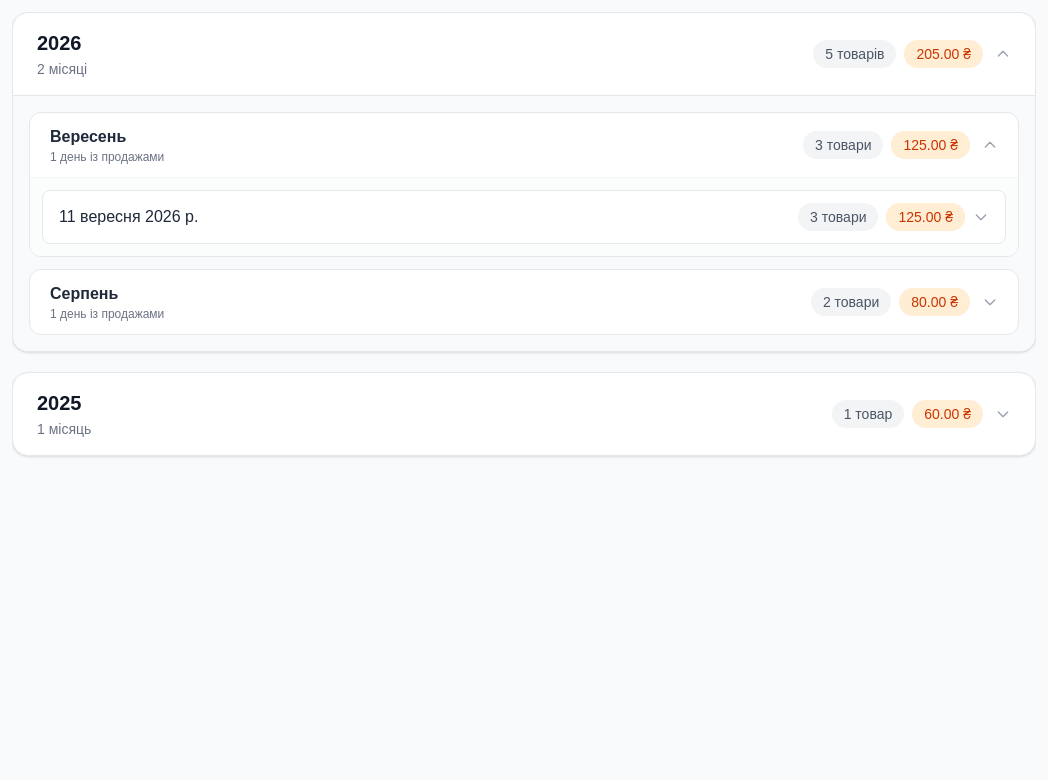
Test case: SaleDetail › expands a month and then a day to show sale details
Step 1. Click the button "Серпень 1 день із продажами 2 товари 80.00 ₴" → click(84, 294), box [30,270,1018,334]
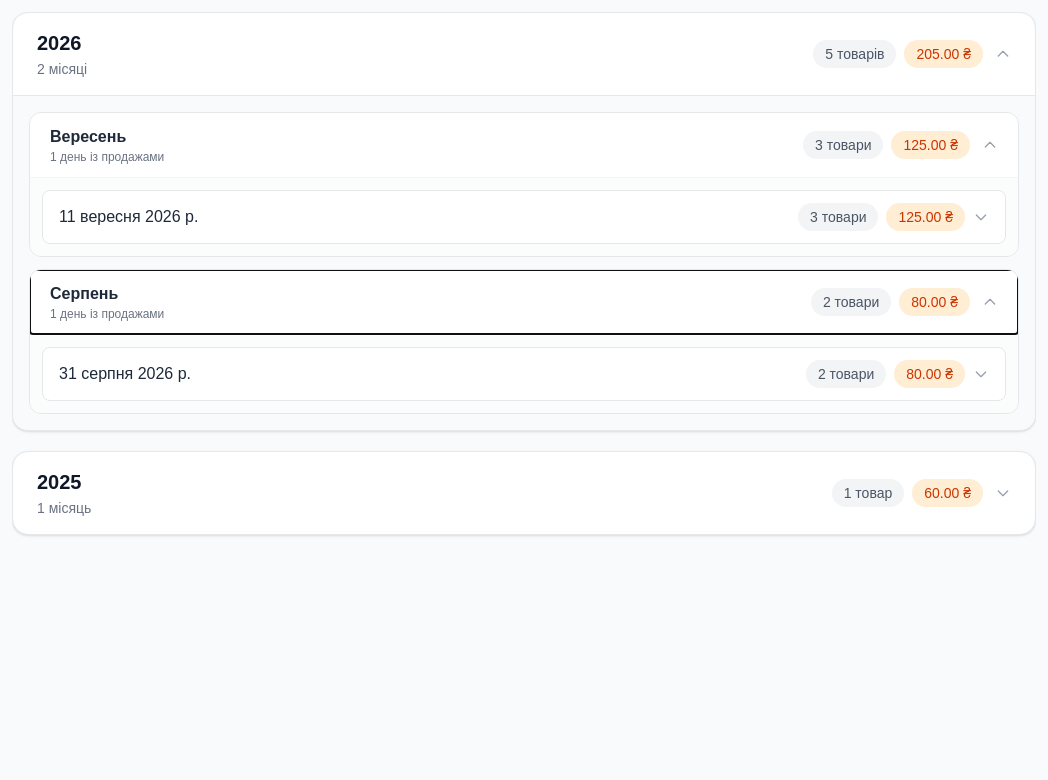
Check: the text "Pear" is not shown
Check: the button "31 серпня 2026 р. 2 товари 80.00 ₴" is shown
Step 2. Click the button "31 серпня 2026 р. 2 товари 80.00 ₴" → click(125, 374), box [43,348,1005,400]
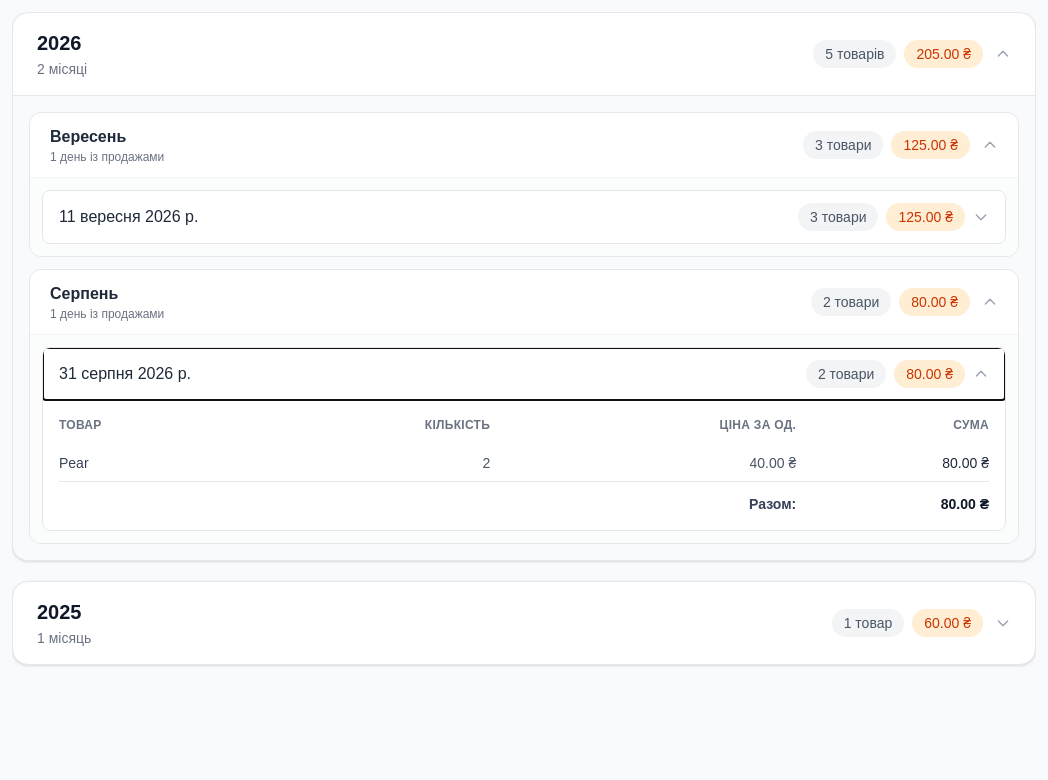
Check: the text "Pear" is shown, box [59,445,229,482]
